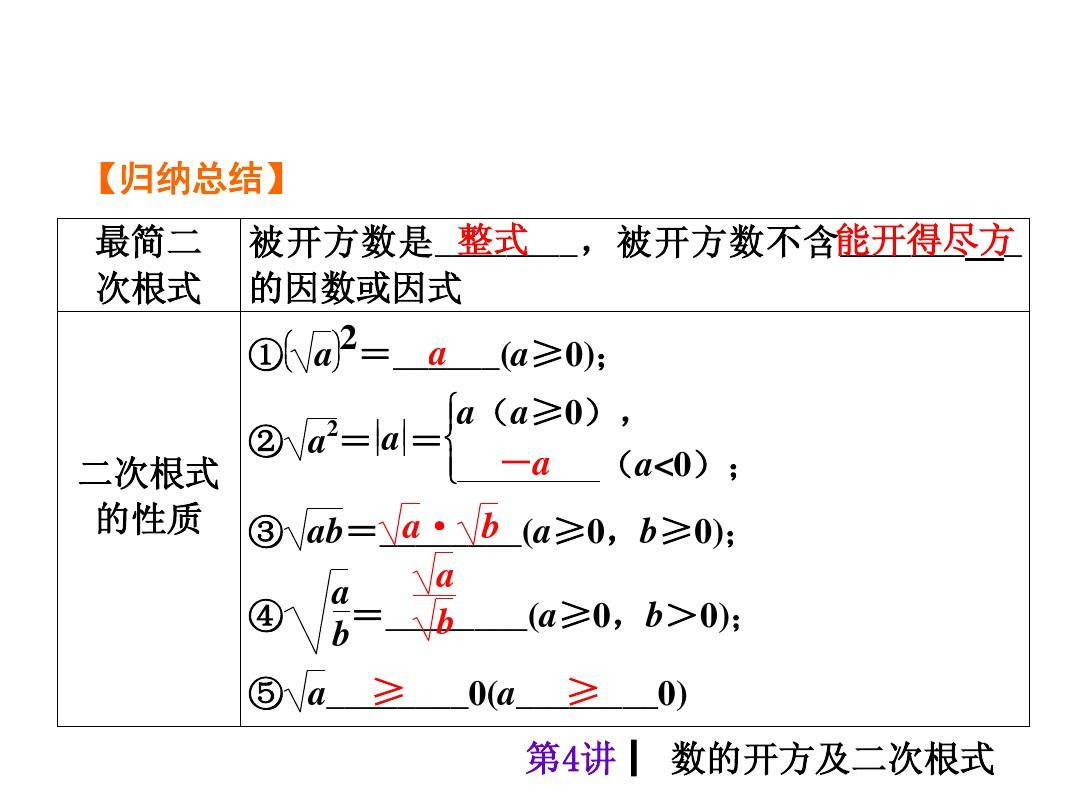division: (410, 589, 466, 604), (317, 601, 350, 617)
sqrt: (283, 560, 353, 655), (281, 407, 345, 466), (285, 502, 345, 552), (378, 497, 426, 553), (416, 542, 464, 595), (414, 593, 460, 643), (295, 321, 335, 378), (283, 663, 326, 713), (458, 502, 502, 548)
square: (339, 322, 361, 349), (325, 418, 345, 434)
